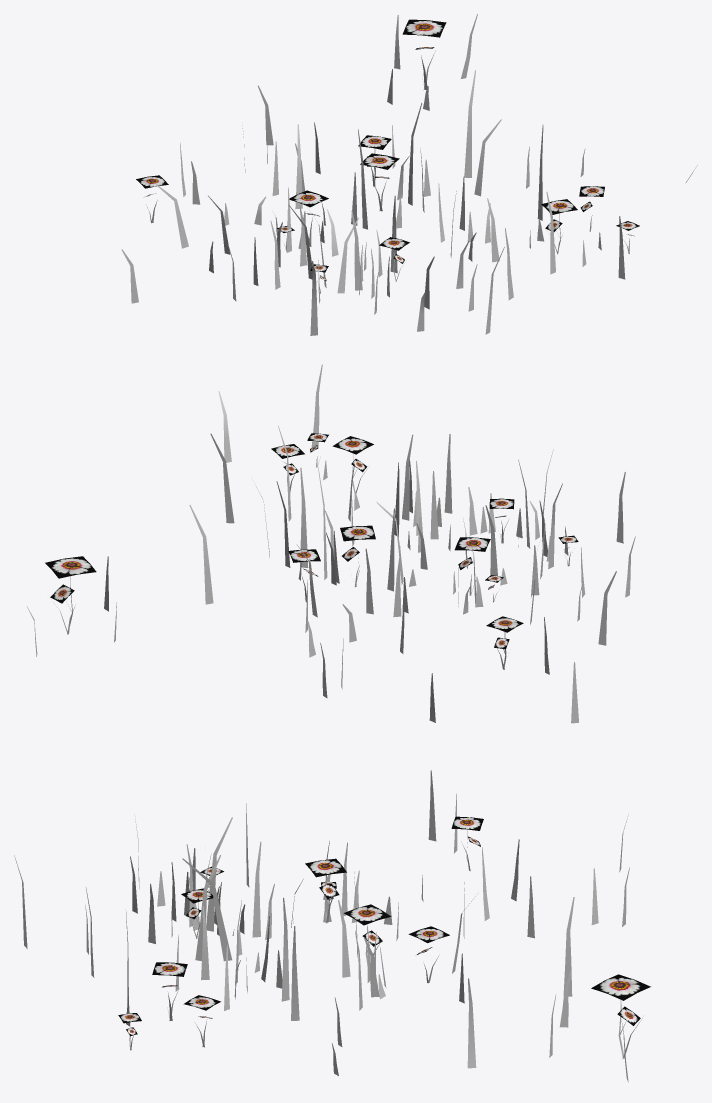
File: grass_meadow.gltf
The picture shows the model from 3 angles, top to bottom: view 1: azimuth 30°, elevation 25°; view 2: azimuth 150°, elevation 25°; view 3: azimuth 270°, elevation 25°; orthographic projection. The views are drawn at different scales.
Parts seen in each view (by area): view 1: Brindilles, Petales; view 2: Brindilles, Petales; view 3: Brindilles, Petales.
Part boxes in pixels (x1,y1,x2,y2): Brindilles: (121,14,697,335); Petales: (136,19,639,280); Brindilles: (26,364,635,723); Petales: (45,433,578,649); Brindilles: (14,770,642,1082); Petales: (118,816,650,1036).
Size of the model in its own units: 9.93 by 2.24 by 10.19.
1 material, 1 textured.
